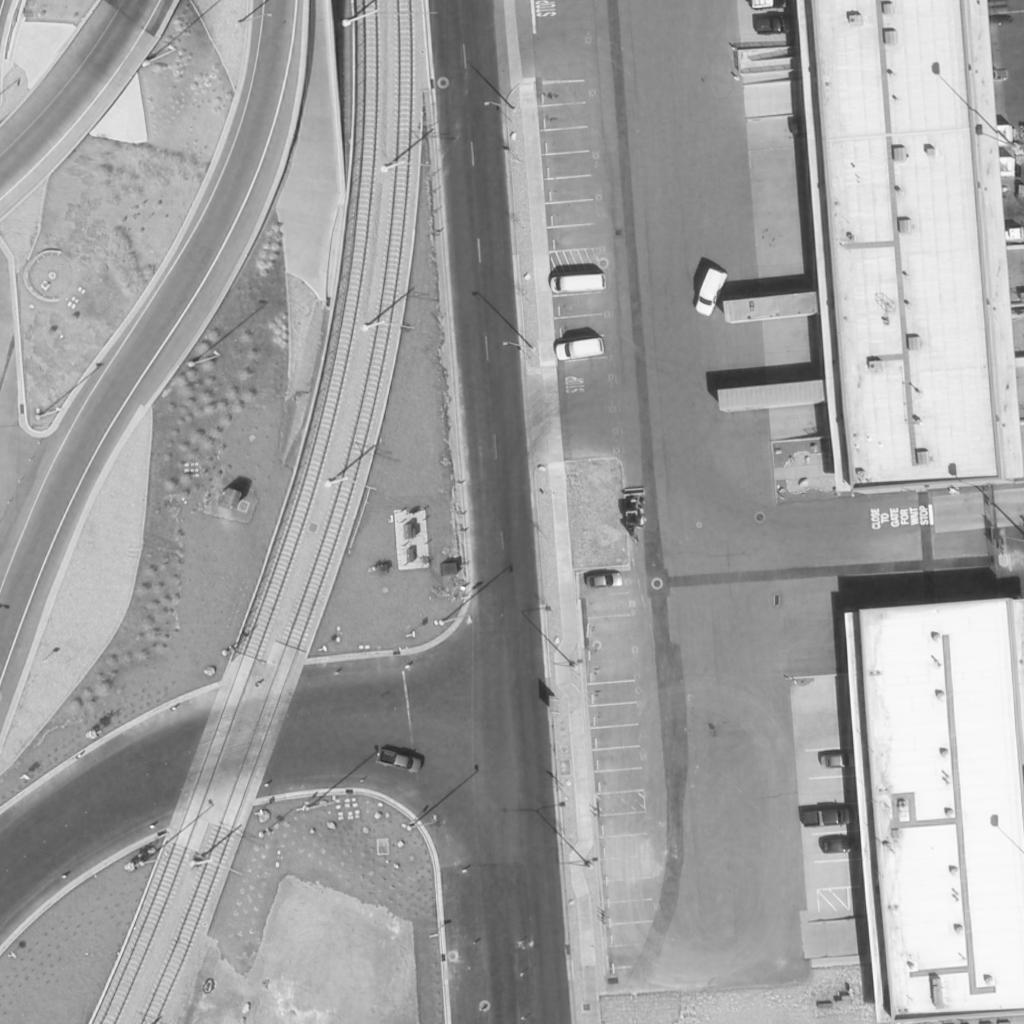vehicle: (694, 267, 730, 323), (612, 489, 650, 533), (373, 749, 427, 775), (552, 341, 606, 363), (751, 13, 805, 35), (798, 807, 856, 827), (549, 274, 607, 292), (819, 837, 865, 855), (581, 574, 625, 588), (820, 752, 862, 766)
